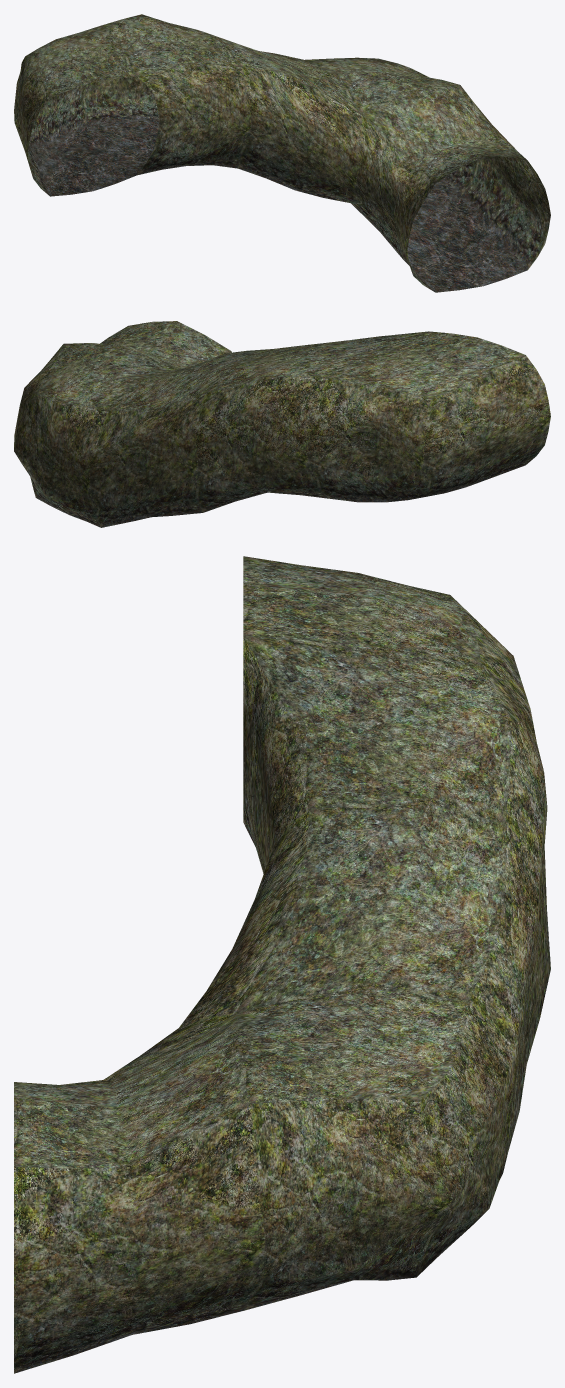
The model's file is thm_all_cave_s03_damprock_r24_r24.fbx.
The picture shows the model from 3 angles, top to bottom: view 1: azimuth 30°, elevation 25°; view 2: azimuth 150°, elevation 25°; view 3: azimuth 270°, elevation 25°; orthographic projection. The views are drawn at different scales.
Visible parts, largest first — view 1: mesh_node; view 2: mesh_node; view 3: mesh_node.
Part boxes in pixels (box(x1,y1,x2,y2)): mesh_node: box(14, 14, 550, 292); mesh_node: box(14, 321, 550, 527); mesh_node: box(14, 556, 550, 1373).
Size of the model in its own units: 35.17 by 17.46 by 18.73.
